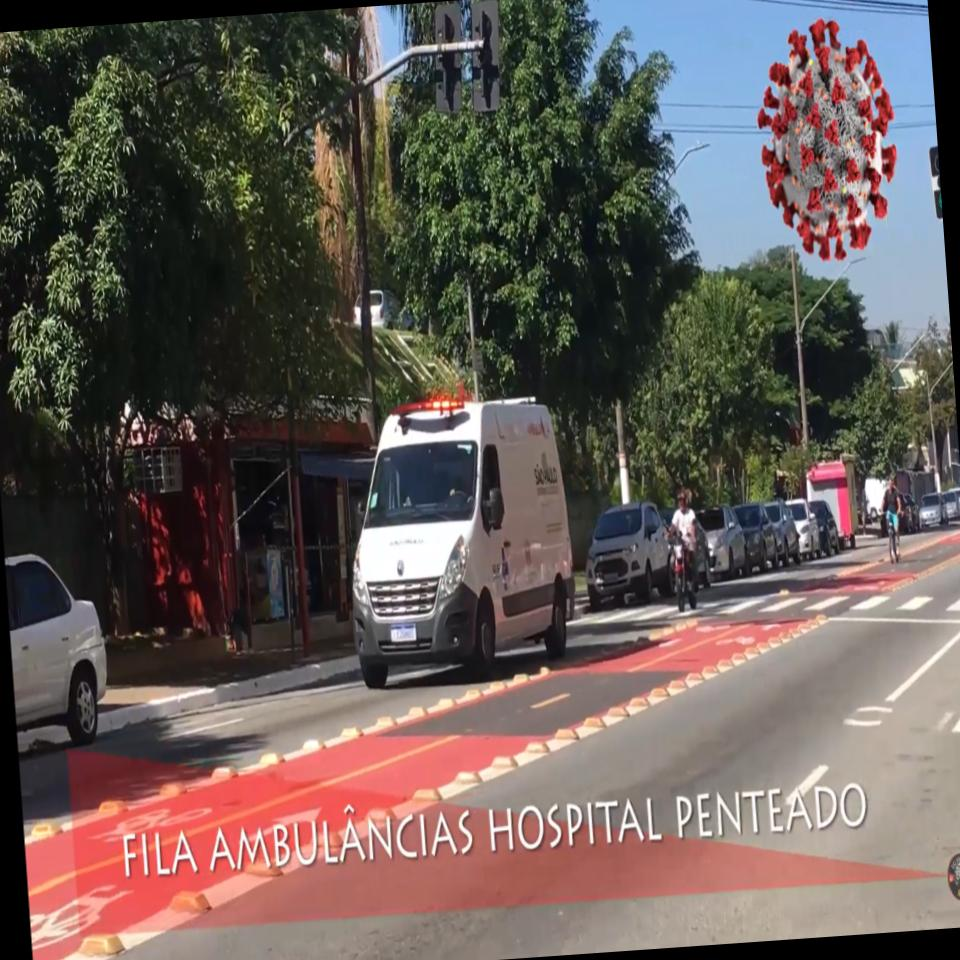bombeiro: (339, 383, 584, 690)
